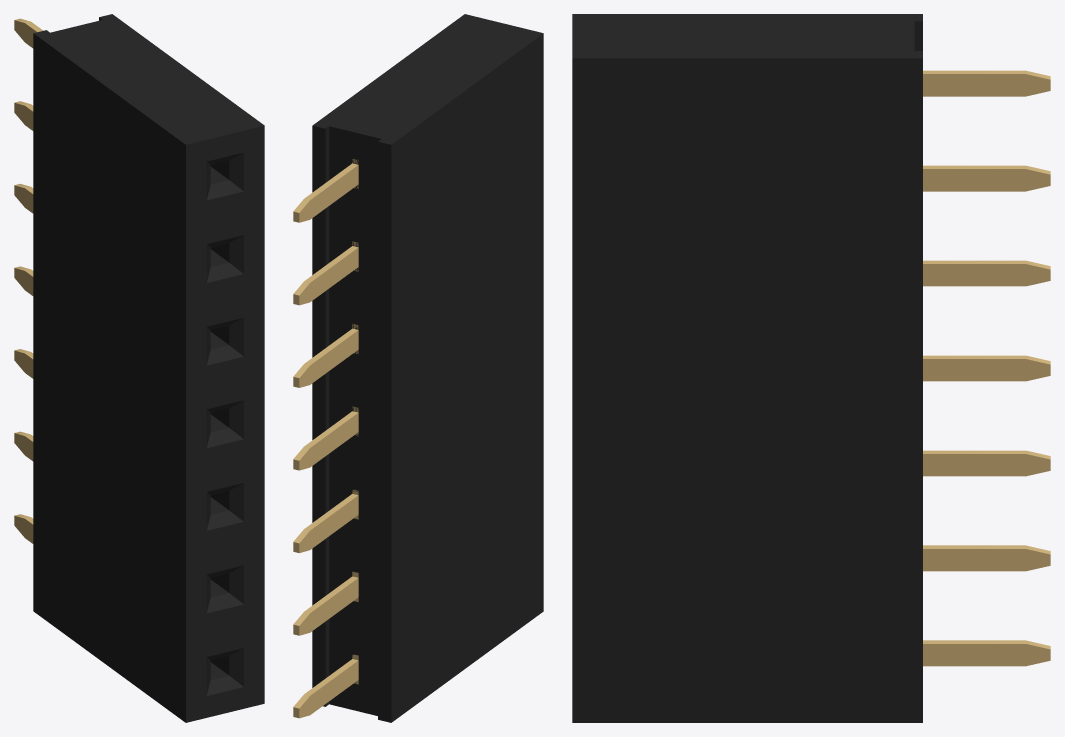
File: socket-1x07.glb
3 renders of one model, left to right at view 1: azimuth 30°, elevation 25°; view 2: azimuth 150°, elevation 25°; view 3: azimuth 270°, elevation 25°, orthographic. The views are drawn at different scales.
Parts seen in each view (by area): view 1: IC-BODY-EPOXY-04, PIN-02; view 2: IC-BODY-EPOXY-04, PIN-02 (×5); view 3: IC-BODY-EPOXY-04, PIN-02 (×5).
Part boxes in pixels (x1,y1,x2,y2): IC-BODY-EPOXY-04: (33, 14, 264, 722); PIN-02: (14, 18, 43, 543); IC-BODY-EPOXY-04: (312, 14, 543, 722); PIN-02 (×5): (293, 159, 358, 718); IC-BODY-EPOXY-04: (572, 14, 922, 722); PIN-02 (×5): (923, 70, 1050, 666).
Bounding box in the file's own units: 2.54 × 17.78 × 11.6.
